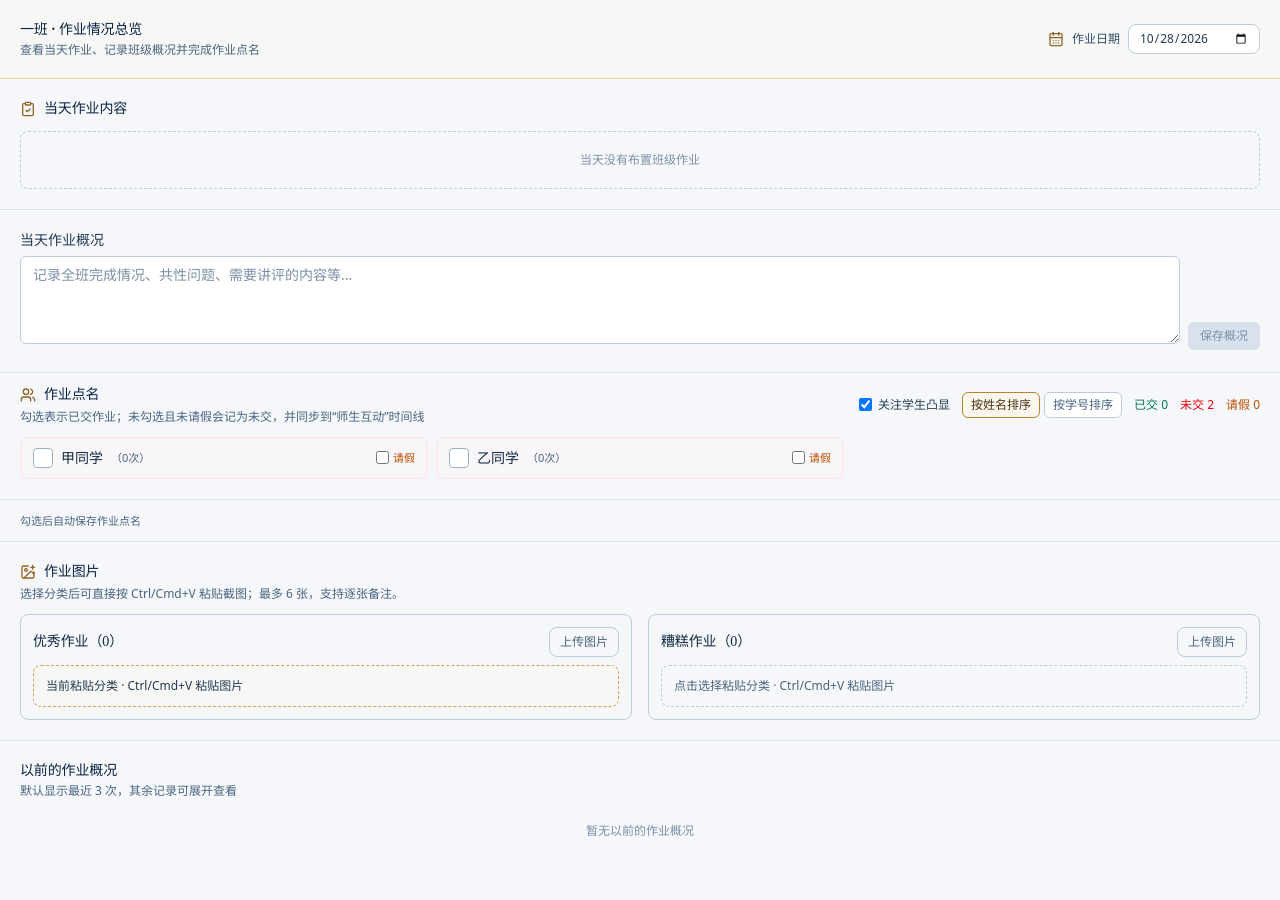
ClassHomeworkOverview › updates the missing count after attendance is saved
Check: the heading "作业点名" is shown, box [44,385,100,405]
Check: the number of elements titled "截至今天未交作业 0 次" is 2, box [111,449,150,466]; [527,449,566,466]
Click the checkbox named "甲同学已交作业": (92, 458) [33,448,150,468]
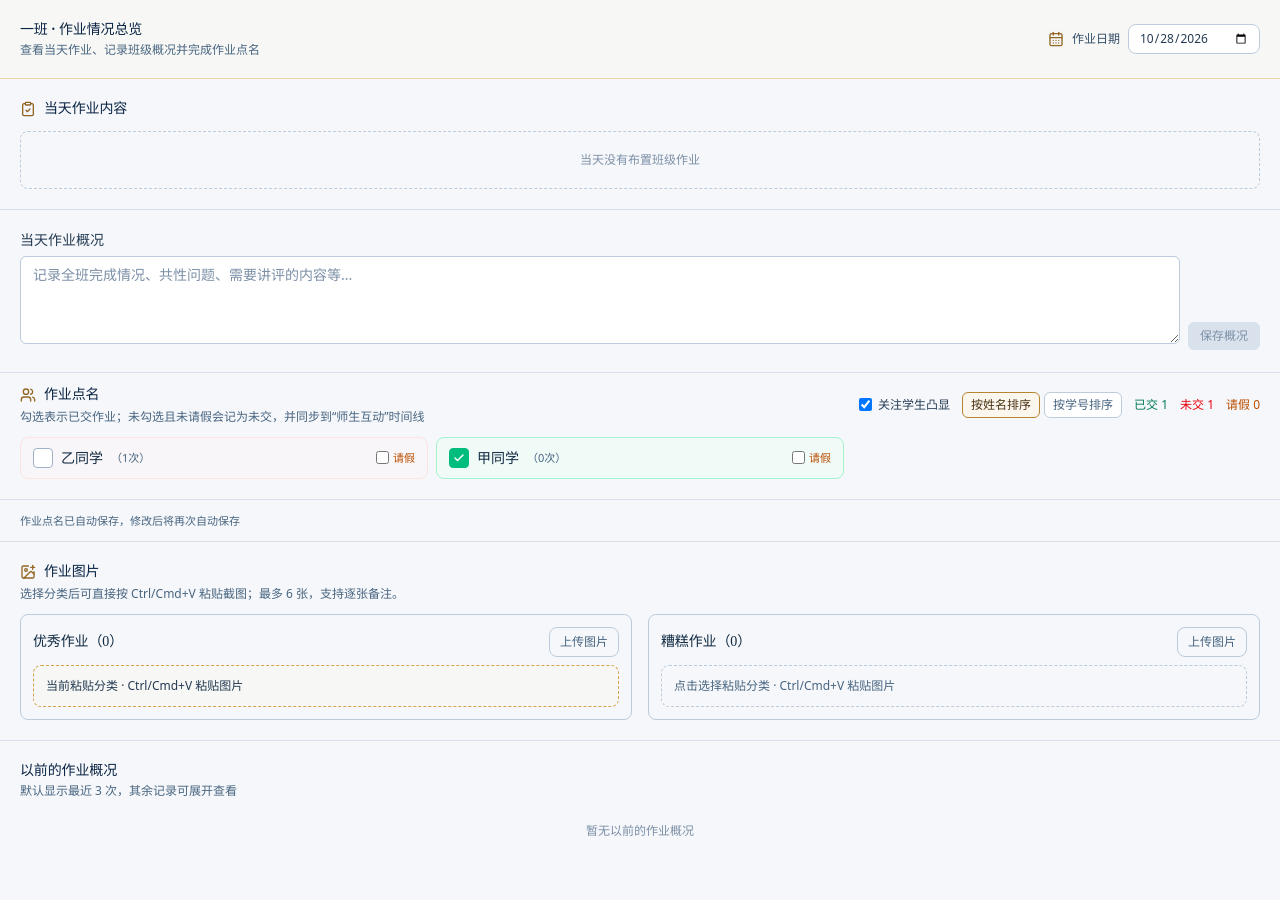
Check: the text titled "截至今天未交作业 0 次" reads "（0次）", box [527,449,566,466]
Check: the text titled "截至今天未交作业 1 次" reads "（1次）", box [111,449,150,466]
